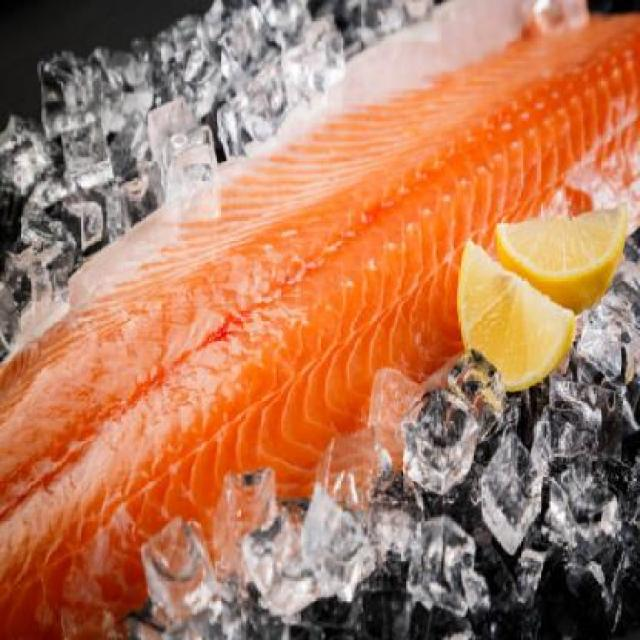salmon: (1, 37, 624, 609)
